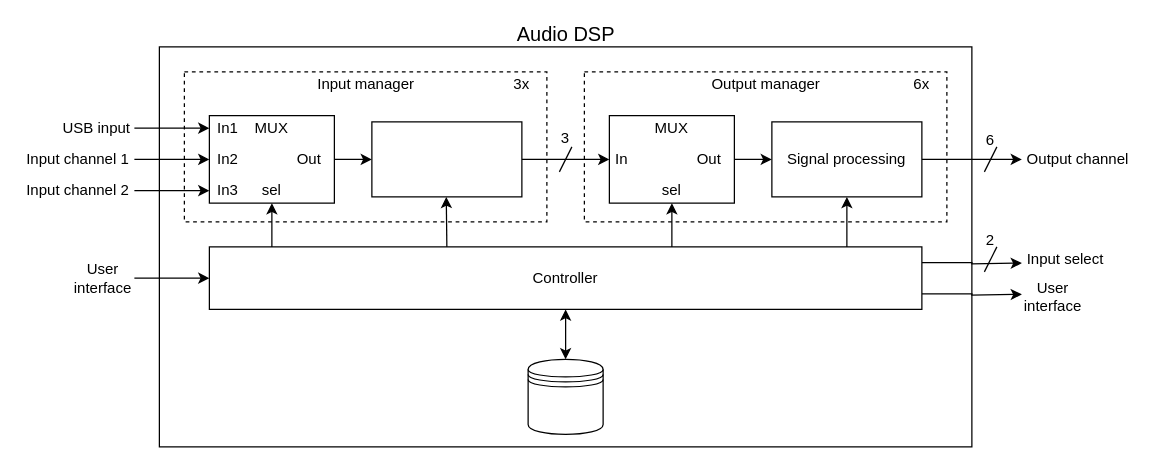
Some shapes in this 1155 by 469 pixel diagram are drawn without their labels. The shapes that lost their labels are listed below. From the top down, each one's centre as x and y in pixels, then its label:
the point at 446,159: Sampler
the point at 565,396: Memory
